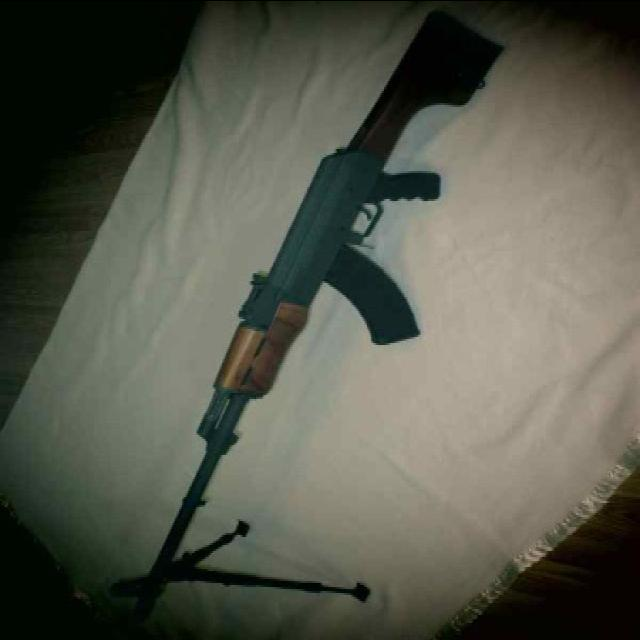rifle: (122, 9, 510, 617)
